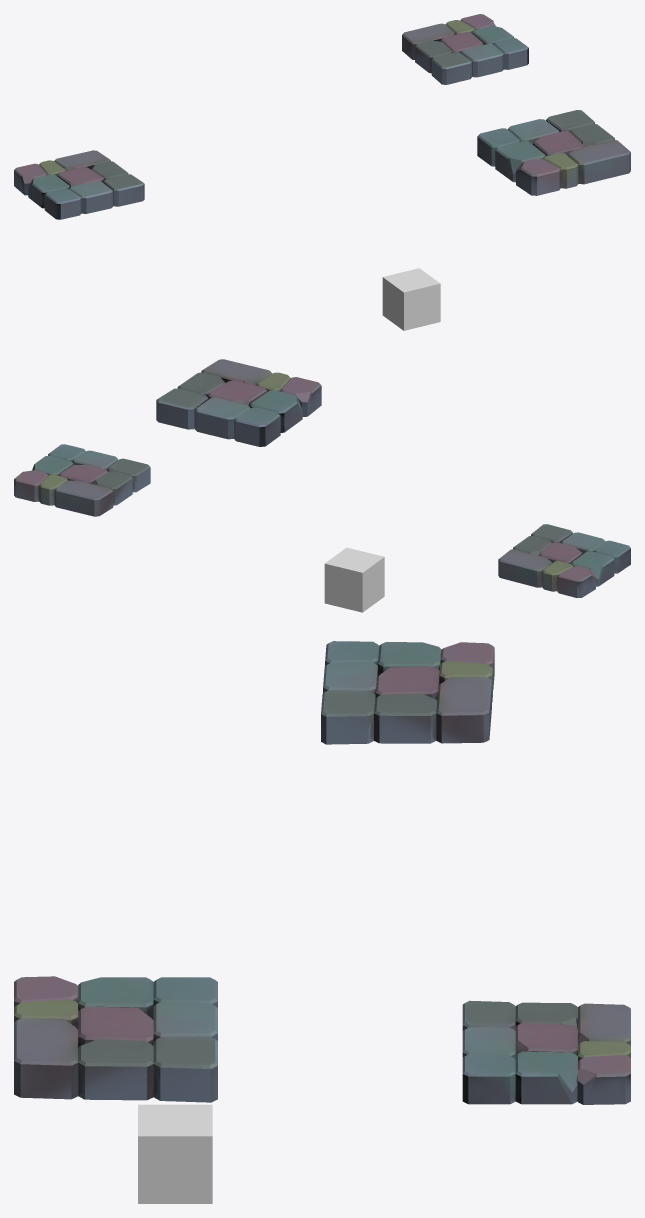
Rendered from battlescence-3-floor010.fbx.
The picture shows the model from 3 angles, top to bottom: view 1: azimuth 30°, elevation 25°; view 2: azimuth 150°, elevation 25°; view 3: azimuth 270°, elevation 25°; orthographic projection. The views are drawn at different scales.
Parts seen in each view (by area): view 1: Cube.016, Cube.075, Cube.004, battlescence-3-floor010; view 2: Cube.016, Cube.004, Cube.075, battlescence-3-floor010; view 3: Cube.016, Cube.075, Cube.004, battlescence-3-floor010.
Part boxes in pixels (x1,y1,x2,y2): Cube.016: (477, 110, 630, 195); Cube.075: (14, 150, 144, 219); Cube.004: (402, 14, 528, 84); battlescence-3-floor010: (382, 268, 440, 330); Cube.016: (156, 359, 321, 446); Cube.004: (14, 444, 150, 516); Cube.075: (498, 524, 630, 597); battlescence-3-floor010: (324, 547, 384, 612); Cube.016: (14, 976, 217, 1102); Cube.075: (321, 641, 494, 744); Cube.004: (462, 1000, 630, 1104); battlescence-3-floor010: (138, 1104, 212, 1203).
Size of the model in its own units: 1769 by 536 by 1048.
